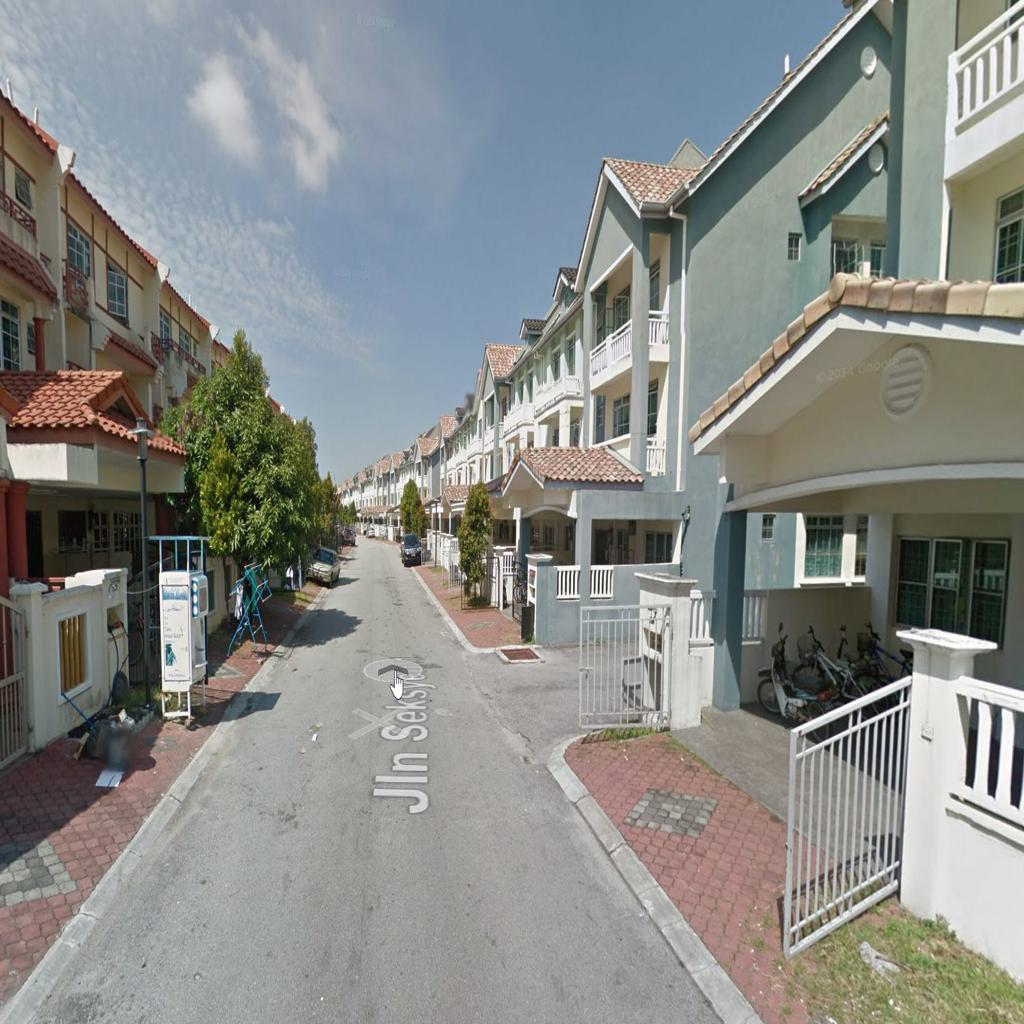Junction: (458, 620, 650, 774)
